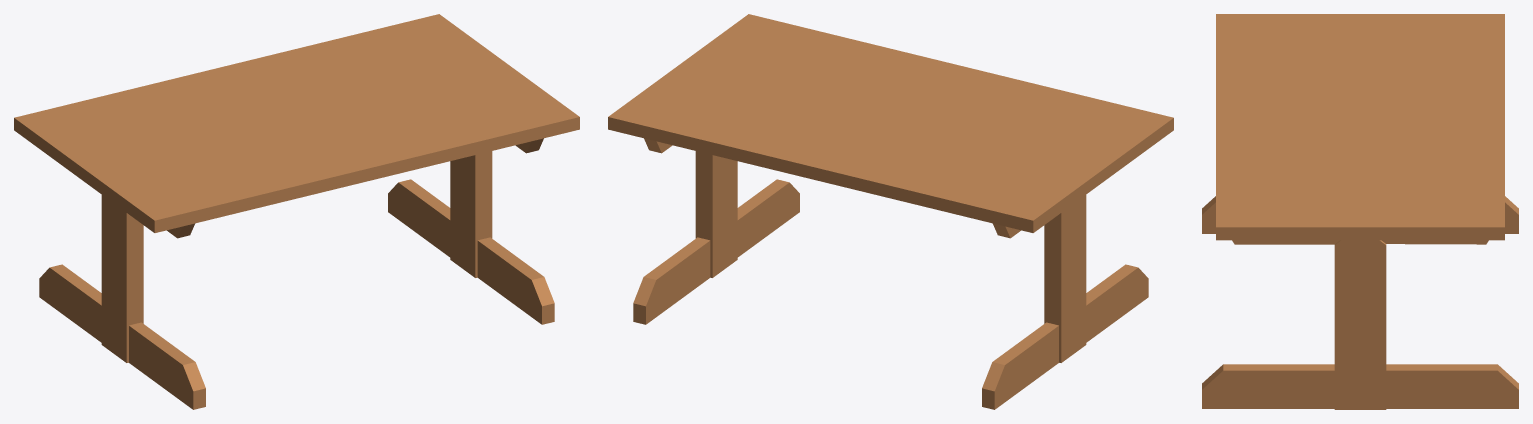
File: MP_Table_Asset.fbx
3 renders of one model, left to right at view 1: azimuth 30°, elevation 25°; view 2: azimuth 150°, elevation 25°; view 3: azimuth 270°, elevation 25°, orthographic. The views are drawn at different scales.
Parts seen in each view (by area): view 1: Table_Top, Table; view 2: Table_Top, Table; view 3: Table_Top, Table.
Boxes of the visible parts, x1,y1,x2,y2 form: Table_Top: (14, 14, 579, 232); Table: (39, 138, 554, 409); Table_Top: (608, 14, 1173, 232); Table: (633, 138, 1148, 409); Table_Top: (1216, 14, 1504, 240); Table: (1202, 196, 1518, 409).
Size of the model in its own units: 136 by 58.9 by 85.61.
